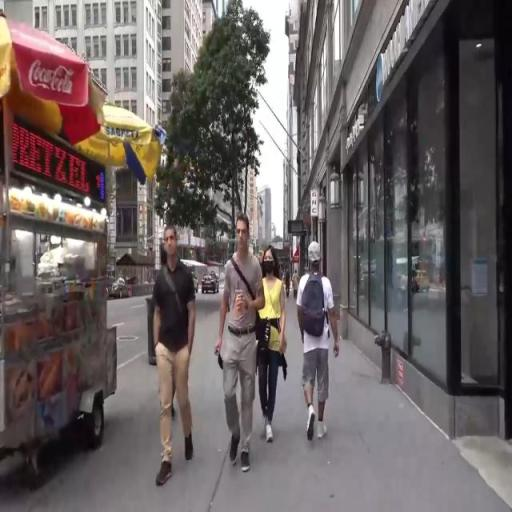person: (153, 223, 205, 493), (217, 209, 258, 483), (295, 240, 341, 432), (259, 244, 290, 445), (293, 266, 299, 294), (286, 271, 292, 297)
